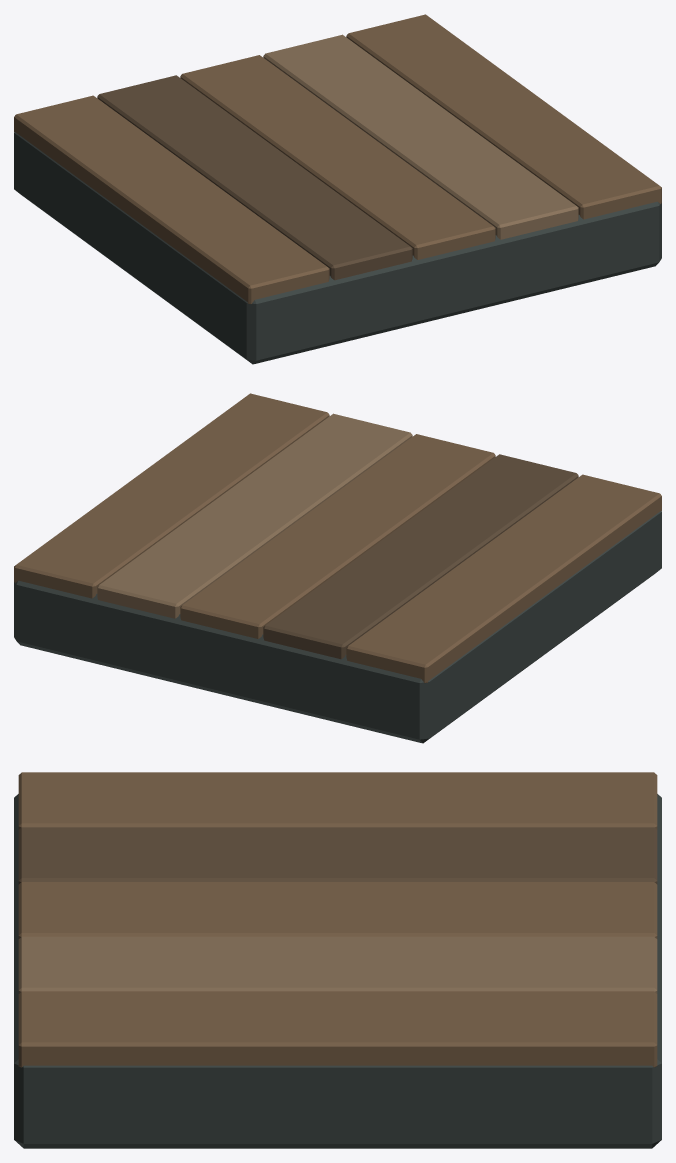
The model's file is FloorTile01.fbx.
The picture shows the model from 3 angles, top to bottom: view 1: azimuth 30°, elevation 25°; view 2: azimuth 150°, elevation 25°; view 3: azimuth 270°, elevation 25°; orthographic projection. The views are drawn at different scales.
Visible parts, largest first — view 1: Steel_Subframe, Floor_Plank, Floor_Plank.004, Floor_Plank.003, Floor_Plank.001, Floor_Plank.002; view 2: Steel_Subframe, Floor_Plank, Floor_Plank.004, Floor_Plank.003, Floor_Plank.001, Floor_Plank.002; view 3: Steel_Subframe, Floor_Plank.004, Floor_Plank, Floor_Plank.003, Floor_Plank.001, Floor_Plank.002.
Part boxes in pixels (box(x1,y1,x2,y2)): Steel_Subframe: box(14, 132, 661, 364); Floor_Plank: box(14, 95, 329, 303); Floor_Plank.004: box(346, 14, 661, 219); Floor_Plank.003: box(263, 34, 578, 239); Floor_Plank.001: box(97, 75, 412, 280); Floor_Plank.002: box(180, 55, 495, 259); Steel_Subframe: box(14, 511, 661, 743); Floor_Plank: box(346, 474, 661, 682); Floor_Plank.004: box(14, 393, 329, 598); Floor_Plank.003: box(97, 413, 412, 618); Floor_Plank.001: box(263, 454, 578, 659); Floor_Plank.002: box(180, 434, 495, 638); Steel_Subframe: box(14, 794, 661, 1148); Floor_Plank.004: box(18, 991, 657, 1067); Floor_Plank: box(18, 772, 657, 829); Floor_Plank.003: box(18, 936, 657, 993); Floor_Plank.001: box(18, 827, 657, 884); Floor_Plank.002: box(18, 882, 657, 938).
Bounding box in the file's own units: 100 × 18.45 × 100.
